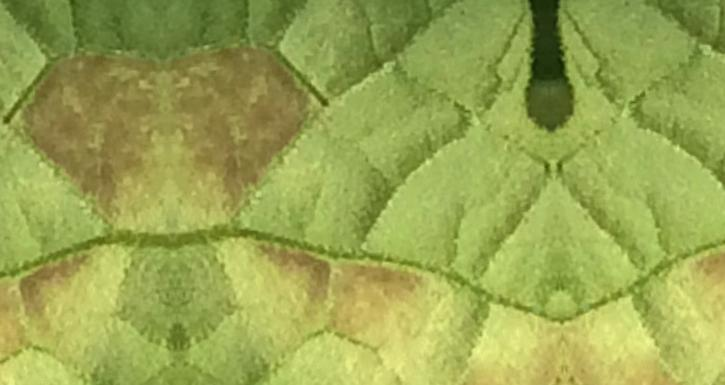Tomato mold leaf: (151, 0, 574, 385)
